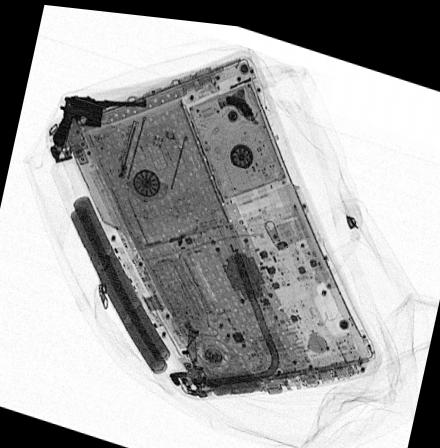Gun: (50, 91, 145, 144)
